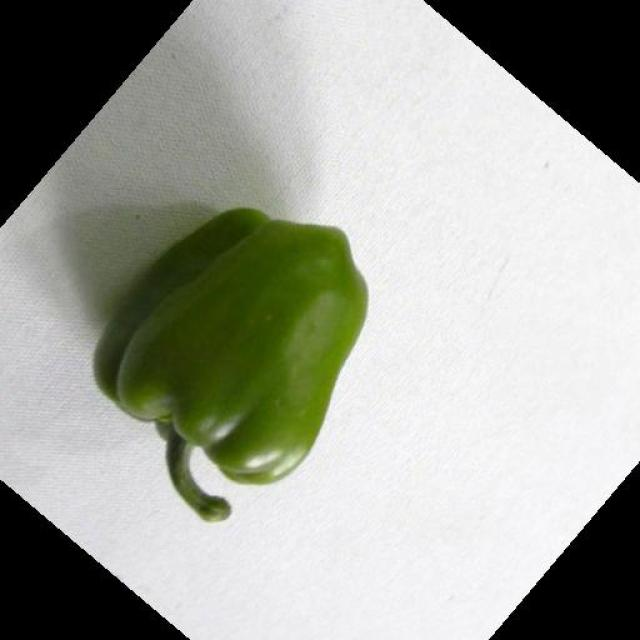Fresh_Capsicum: (57, 182, 354, 502)
